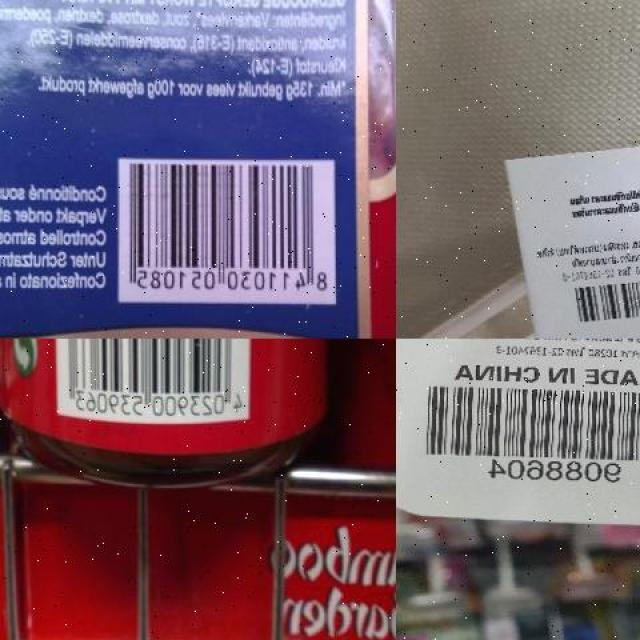Barcode: (117, 159, 335, 301), (404, 381, 640, 480), (55, 339, 252, 425), (556, 256, 640, 339)
